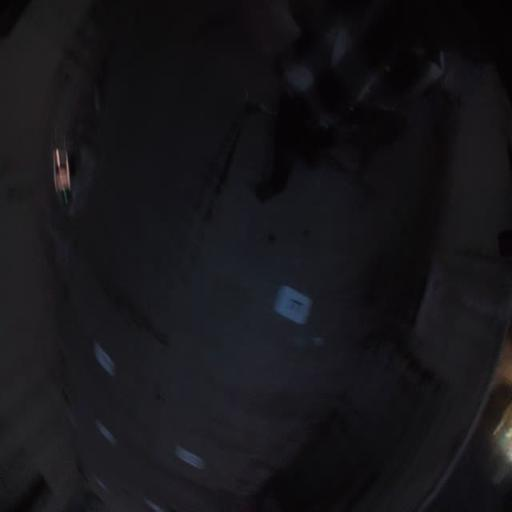F: (272, 285, 312, 325)
